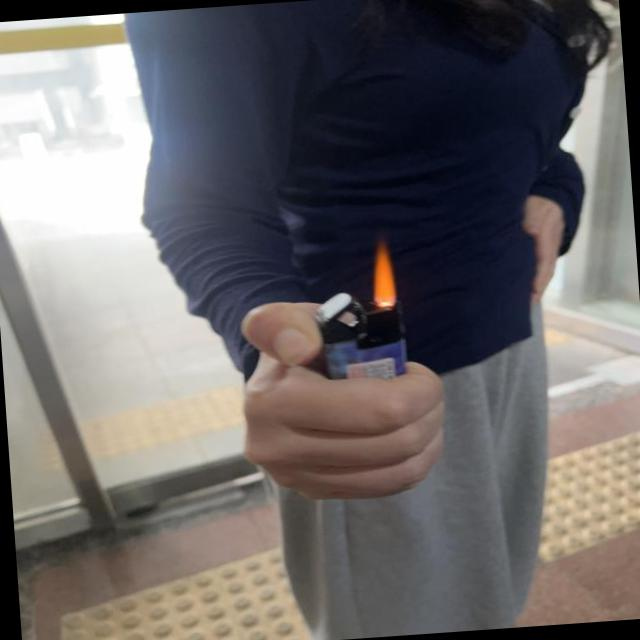Fire: (366, 237, 398, 307)
